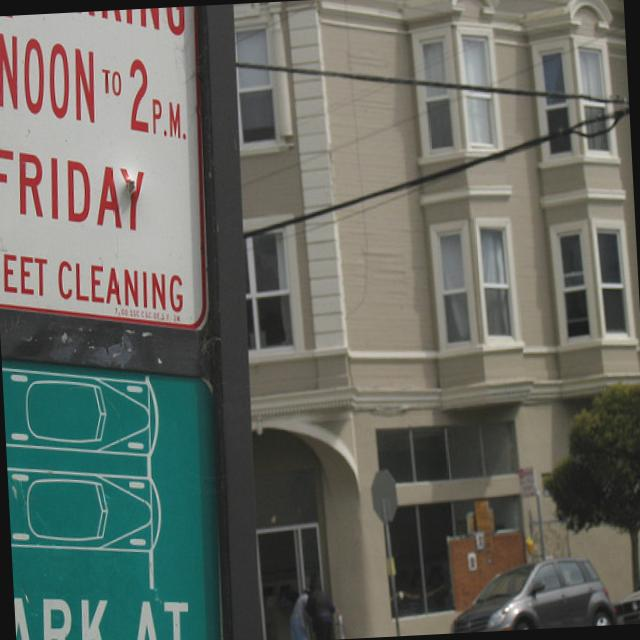Vehicle: (446, 548, 614, 632), (612, 548, 640, 625)
